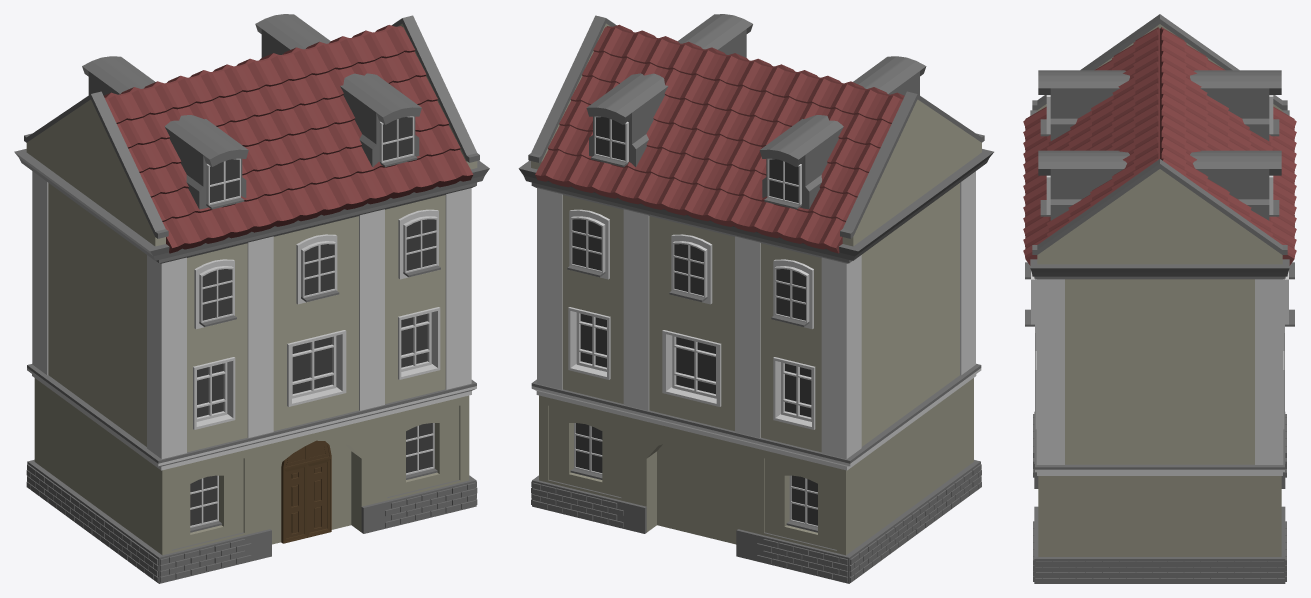
The model's file is house4.glb.
3 views of the same model, side by side, from view 1: azimuth 30°, elevation 25°; view 2: azimuth 150°, elevation 25°; view 3: azimuth 270°, elevation 25° (orthographic). The views are drawn at different scales.
Visible parts, largest first — view 1: Building1_Small; view 2: Building1_Small; view 3: Building1_Small.
Part boxes in pixels (left/top/right/bottom): Building1_Small: left=14, top=14, right=489, bottom=583; Building1_Small: left=518, top=14, right=993, bottom=583; Building1_Small: left=1023, top=14, right=1296, bottom=583.
Bounding box in the file's own units: 3.75 × 4.66 × 2.74.
